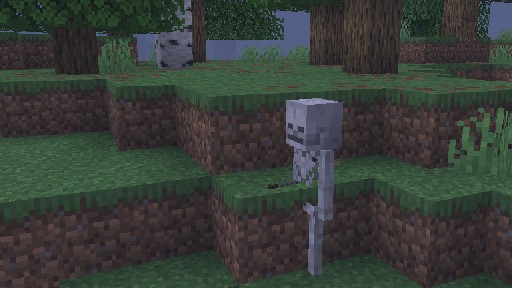skeleton: (265, 97, 343, 275)
